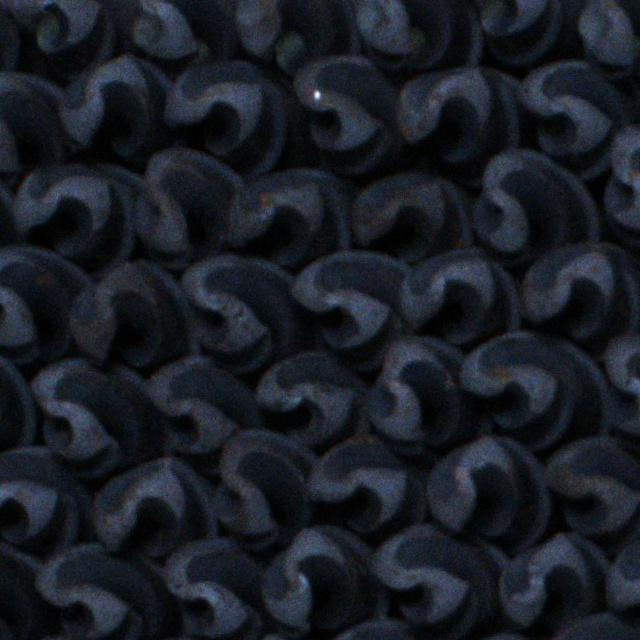tool_b: (460, 331, 613, 450), (163, 60, 309, 180), (373, 523, 512, 640), (29, 358, 163, 478), (289, 248, 413, 372), (397, 66, 524, 187), (470, 144, 597, 264), (180, 251, 304, 372), (34, 540, 184, 640), (14, 162, 143, 278), (424, 435, 551, 552), (261, 524, 391, 638), (522, 242, 640, 364), (518, 59, 640, 177), (69, 259, 201, 366), (370, 339, 492, 454), (292, 53, 405, 176), (131, 148, 244, 269), (56, 53, 184, 155), (89, 457, 217, 558), (214, 428, 317, 552), (226, 166, 355, 264), (399, 246, 520, 348), (307, 434, 429, 534), (352, 168, 474, 262), (165, 542, 282, 640), (147, 356, 266, 452), (544, 435, 640, 553), (0, 244, 93, 362), (256, 351, 371, 445), (5, 0, 140, 80), (498, 533, 608, 627), (346, 0, 482, 72), (456, 0, 598, 66), (235, 0, 365, 72), (0, 447, 92, 548), (0, 70, 72, 182), (130, 0, 246, 66)
